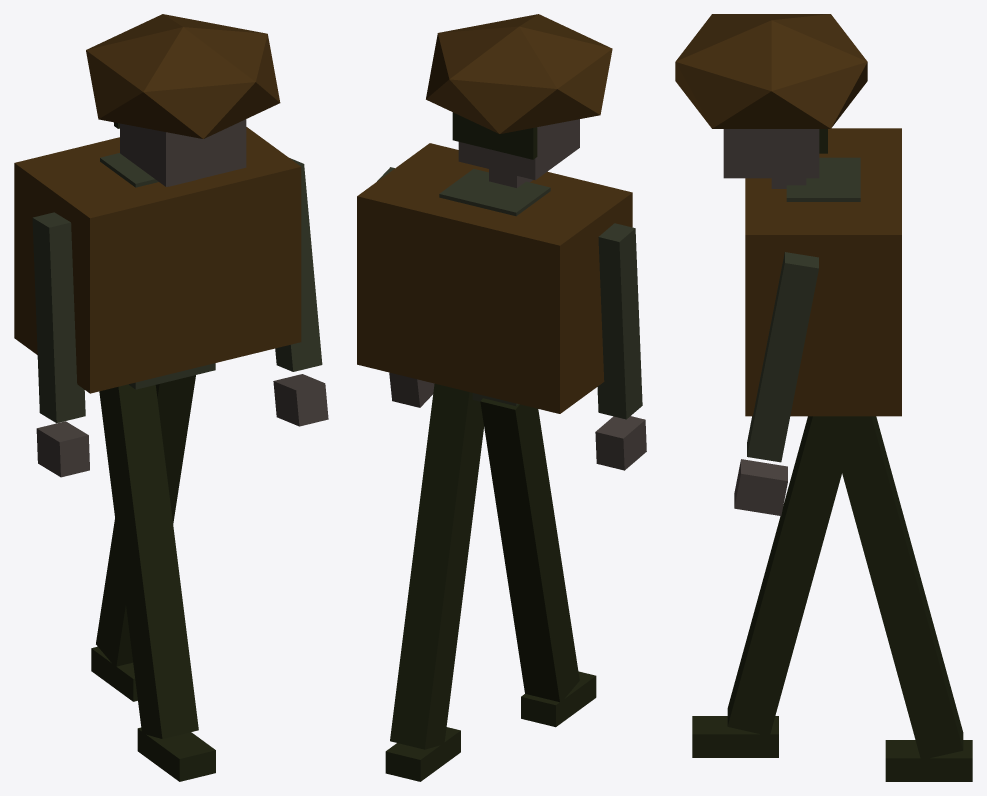
The model's file is SM_Zombi_v19_Uniformado_LOD0.fbx.
3 renders of one model, left to right at view 1: azimuth 30°, elevation 25°; view 2: azimuth 150°, elevation 25°; view 3: azimuth 270°, elevation 25°, orthographic. The views are drawn at different scales.
Visible parts, largest first — view 1: SM_zombi_fino_v19_LOD0; view 2: SM_zombi_fino_v19_LOD0; view 3: SM_zombi_fino_v19_LOD0.
Boxes of the visible parts, x1,y1,x2,y2 form: SM_zombi_fino_v19_LOD0: [14, 14, 328, 781]; SM_zombi_fino_v19_LOD0: [357, 14, 646, 781]; SM_zombi_fino_v19_LOD0: [675, 14, 972, 781].
Bounding box in the file's own units: 0.7 × 1.88 × 0.6837.
